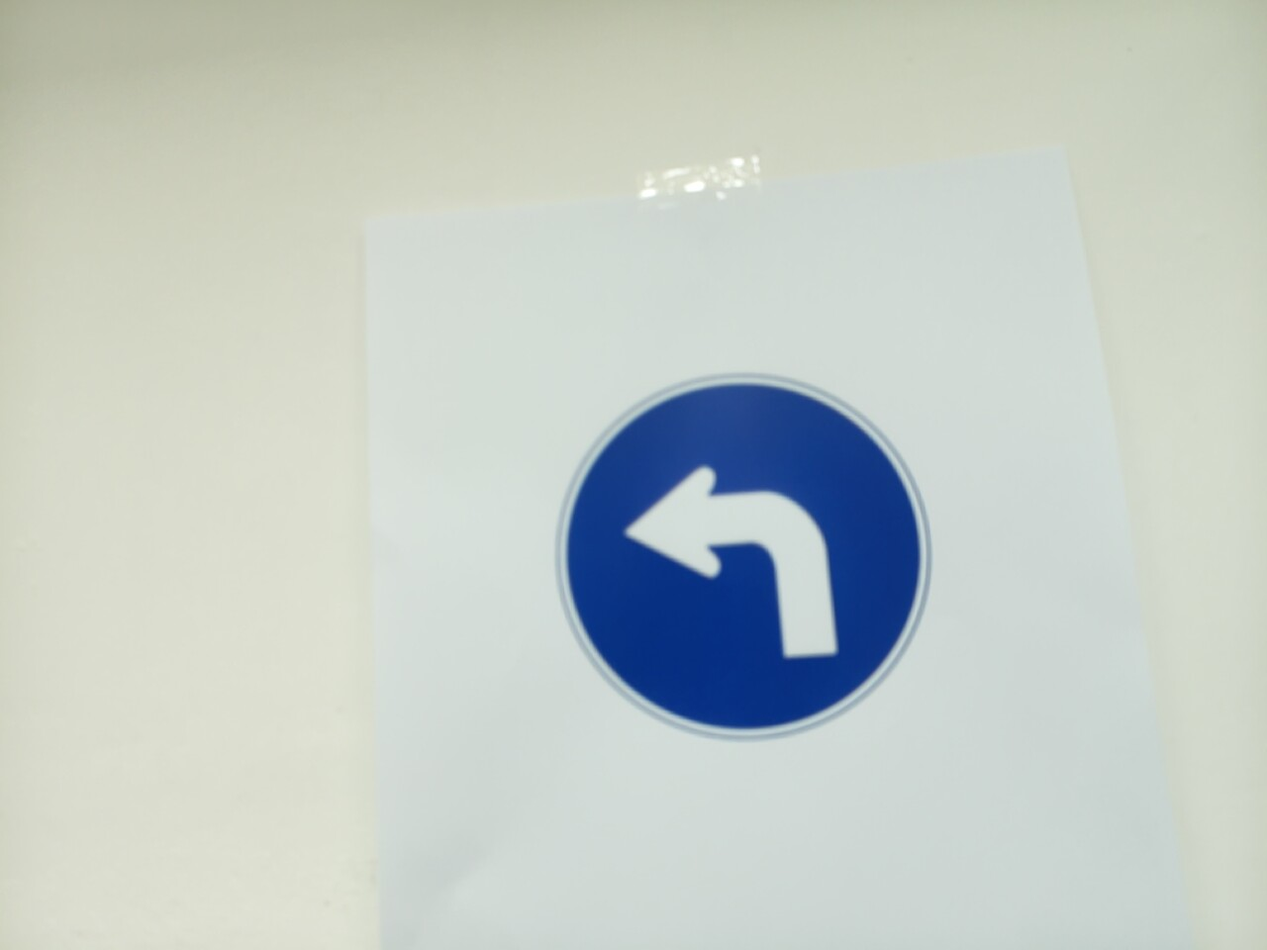left_turn: (555, 372, 931, 740)
